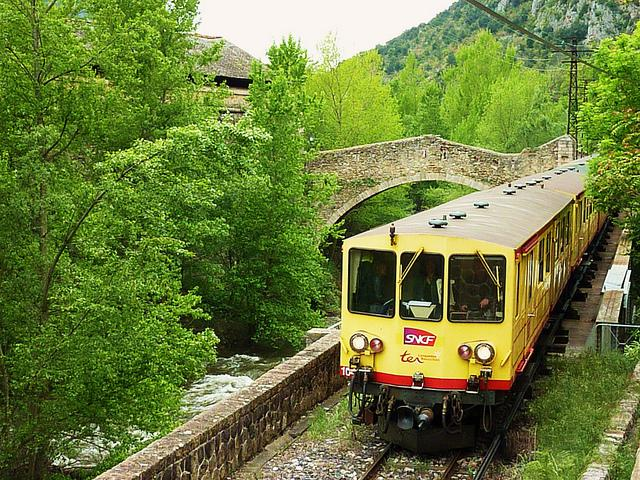Train: (340, 152, 611, 460)
